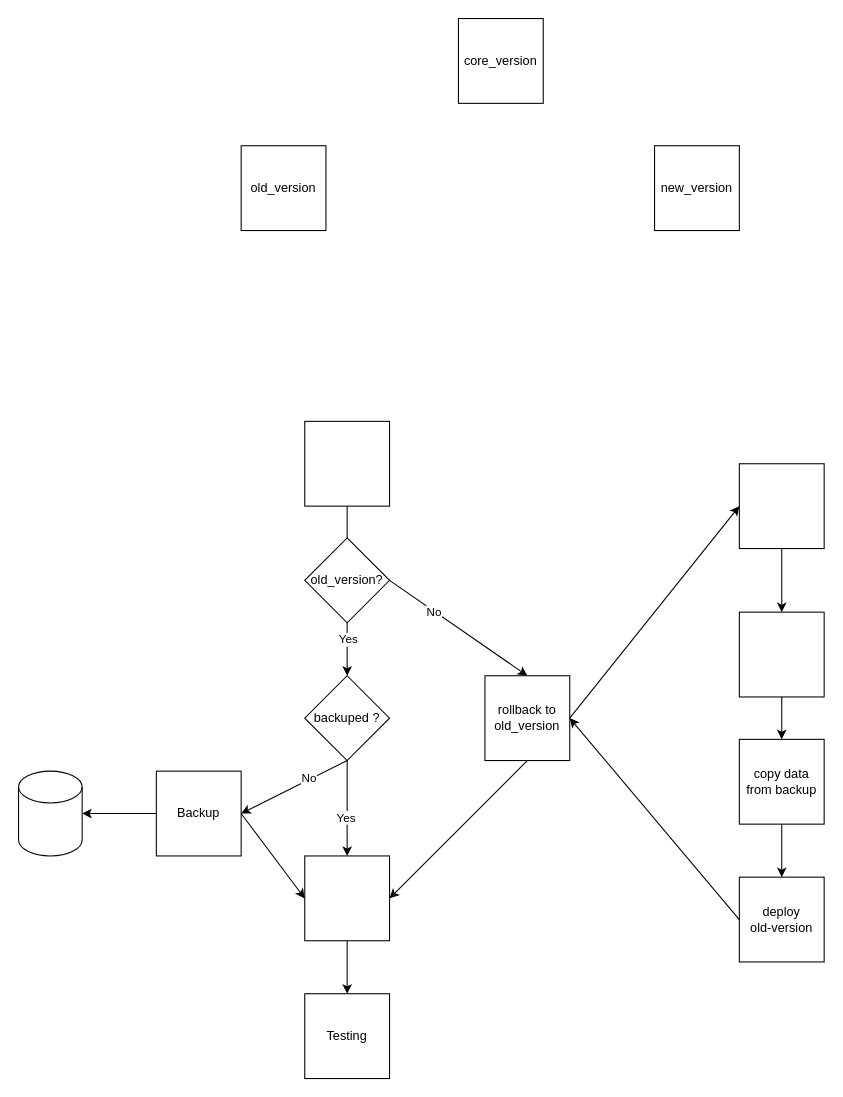
Some shapes in this 843 by 1097 pixel diagram are drawn without their labels. Here are the shapes that lost their labels. From the top down, the centre of each, then its label:
the point at 347,463: checking
the point at 781,506: stop stacks
the point at 781,654: clean new_version data
the point at 49,813: backup folder
the point at 347,898: upgrade
